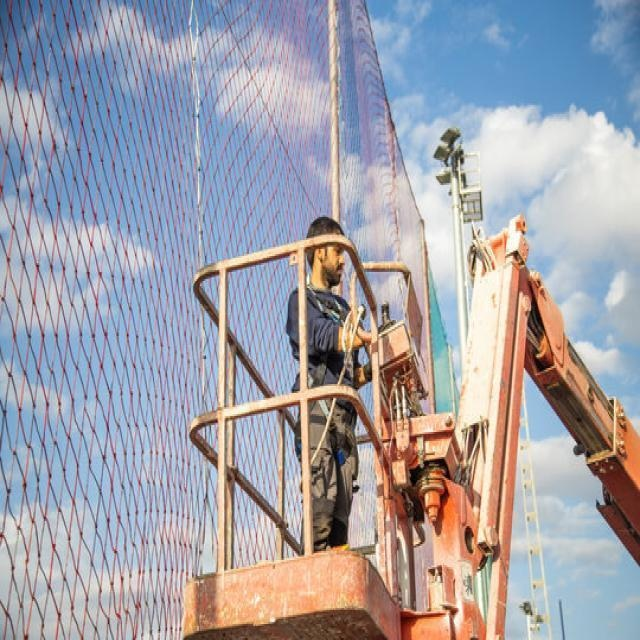Arnes_seguridad: (301, 281, 357, 464)
